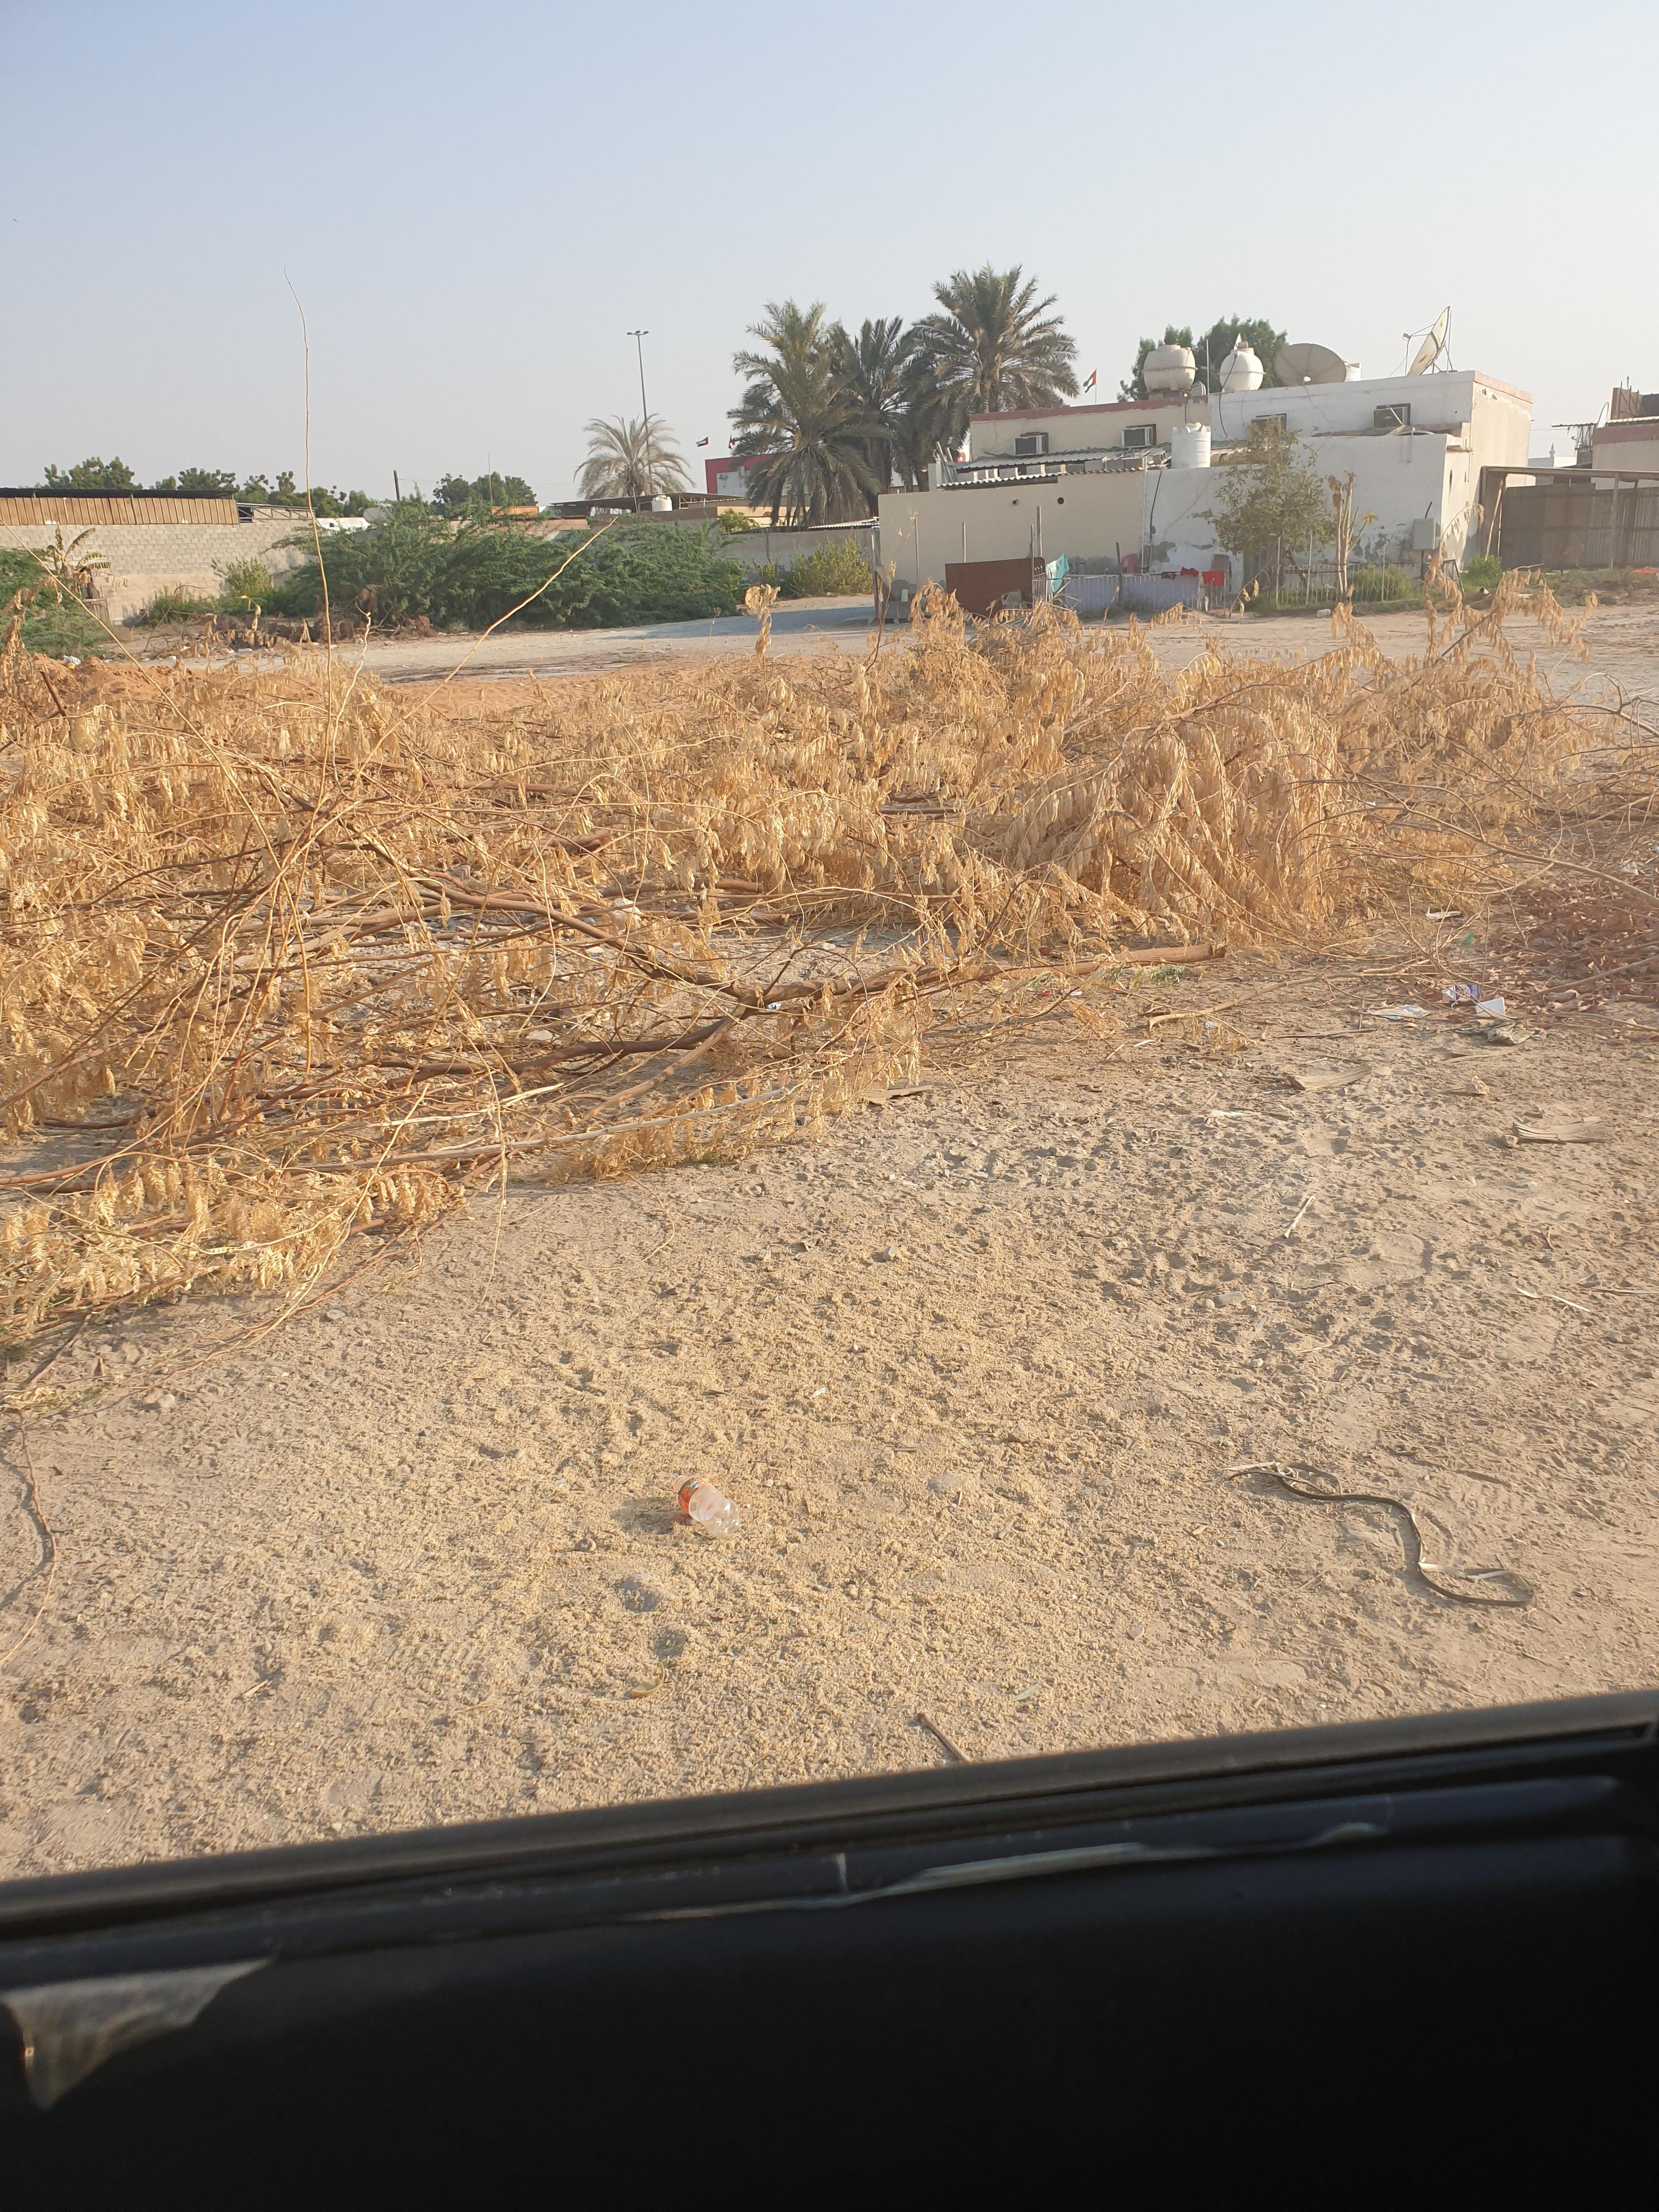fallen_trees: (87, 667, 1012, 1212), (1127, 725, 1593, 1103), (746, 871, 1258, 1190), (0, 1101, 481, 1406), (643, 617, 1223, 792), (1202, 620, 1659, 841)
